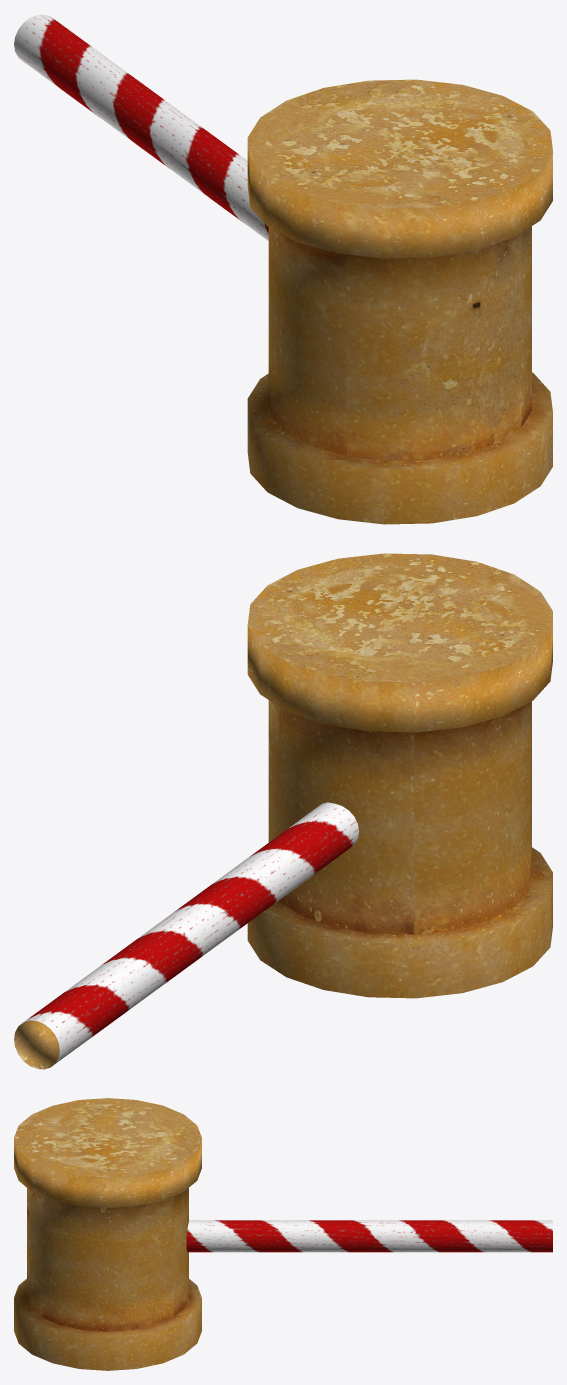
The model's file is mallet.fbx.
3 renders of one model, top to bottom at view 1: azimuth 30°, elevation 25°; view 2: azimuth 150°, elevation 25°; view 3: azimuth 270°, elevation 25°, orthographic. The views are drawn at different scales.
Visible parts, largest first — view 1: polySurface1; view 2: polySurface1; view 3: polySurface1.
Boxes of the visible parts, box(x1,y1,x2,y2) form: polySurface1: box(14, 14, 552, 524); polySurface1: box(14, 553, 552, 1069); polySurface1: box(14, 1098, 552, 1370).
Bounding box in the file's own units: 34.75 × 39.59 × 99.69.
Materials: 1 (1 with a texture image).
